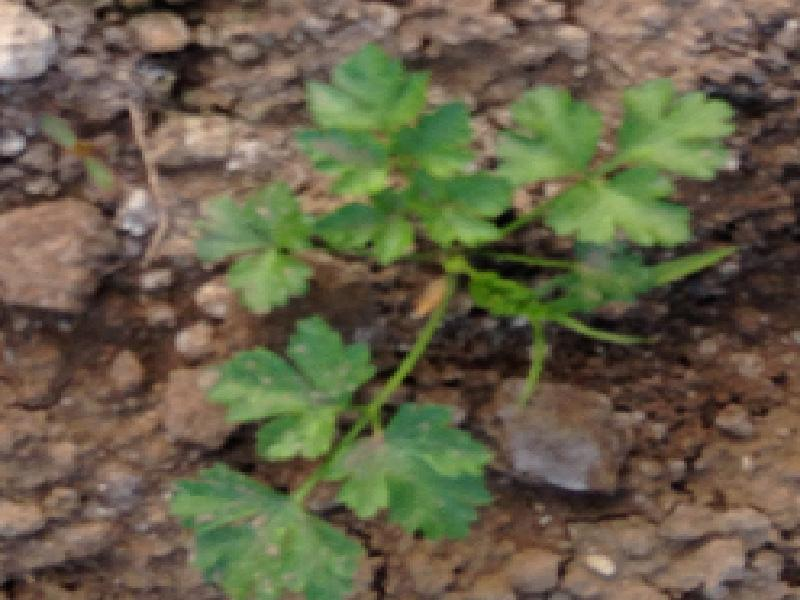radish: (74, 0, 781, 584)
